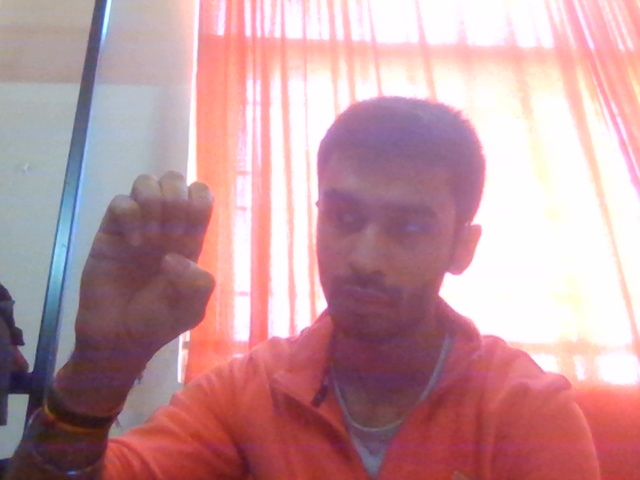E: (70, 138, 239, 400)
